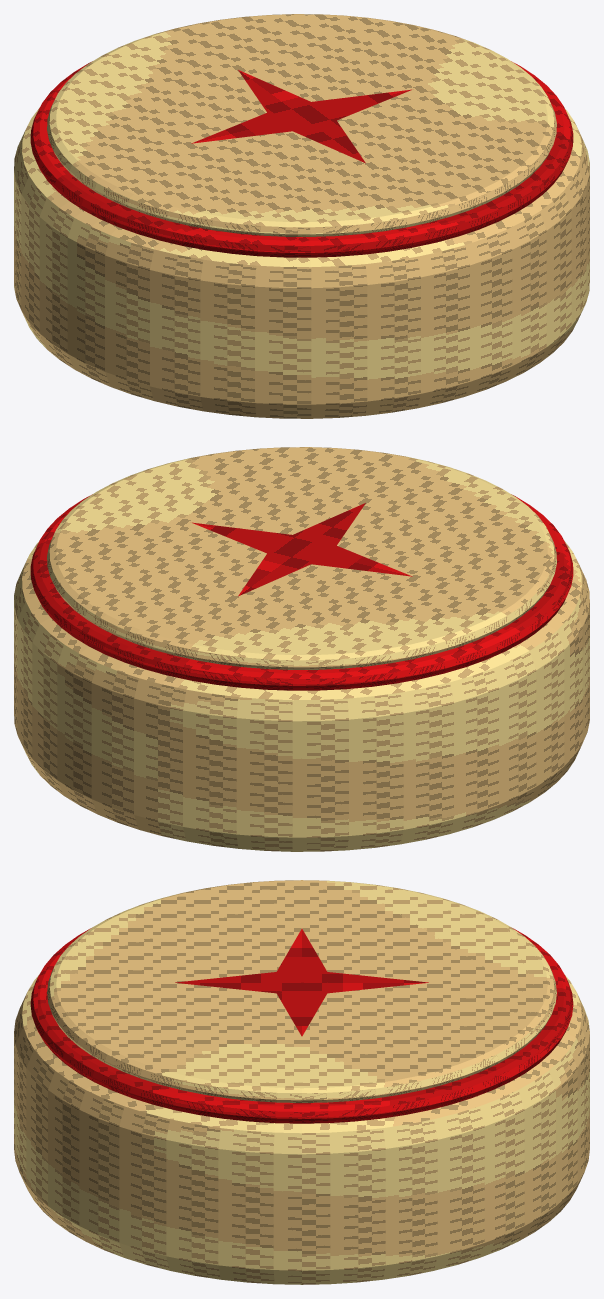
The model's file is Checker_Ivory.glb.
The picture shows the model from 3 angles, top to bottom: view 1: azimuth 30°, elevation 25°; view 2: azimuth 150°, elevation 25°; view 3: azimuth 270°, elevation 25°; orthographic projection.
Parts seen in each view (by area): view 1: Checker_Ivory; view 2: Checker_Ivory; view 3: Checker_Ivory.
Part boxes in pixels (x1=…): Checker_Ivory: x1=14, y1=14, x2=589, y2=418; Checker_Ivory: x1=14, y1=447, x2=589, y2=851; Checker_Ivory: x1=14, y1=880, x2=589, y2=1284.
Size of the model in its own units: 0.0314 by 0.0115 by 0.0314.
2 materials, 2 textured.
